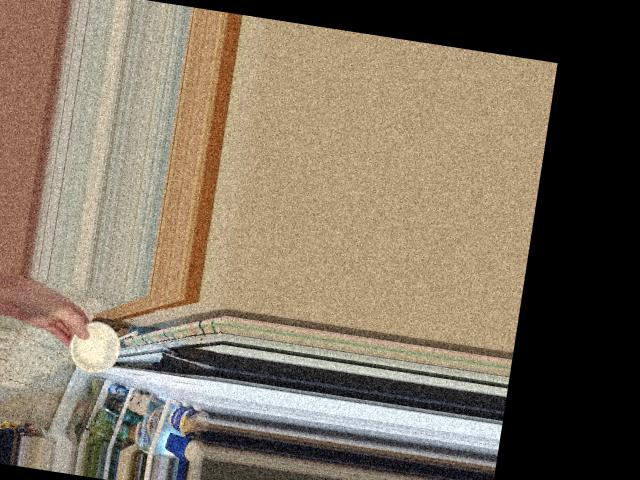cotage: (64, 315, 121, 368)
